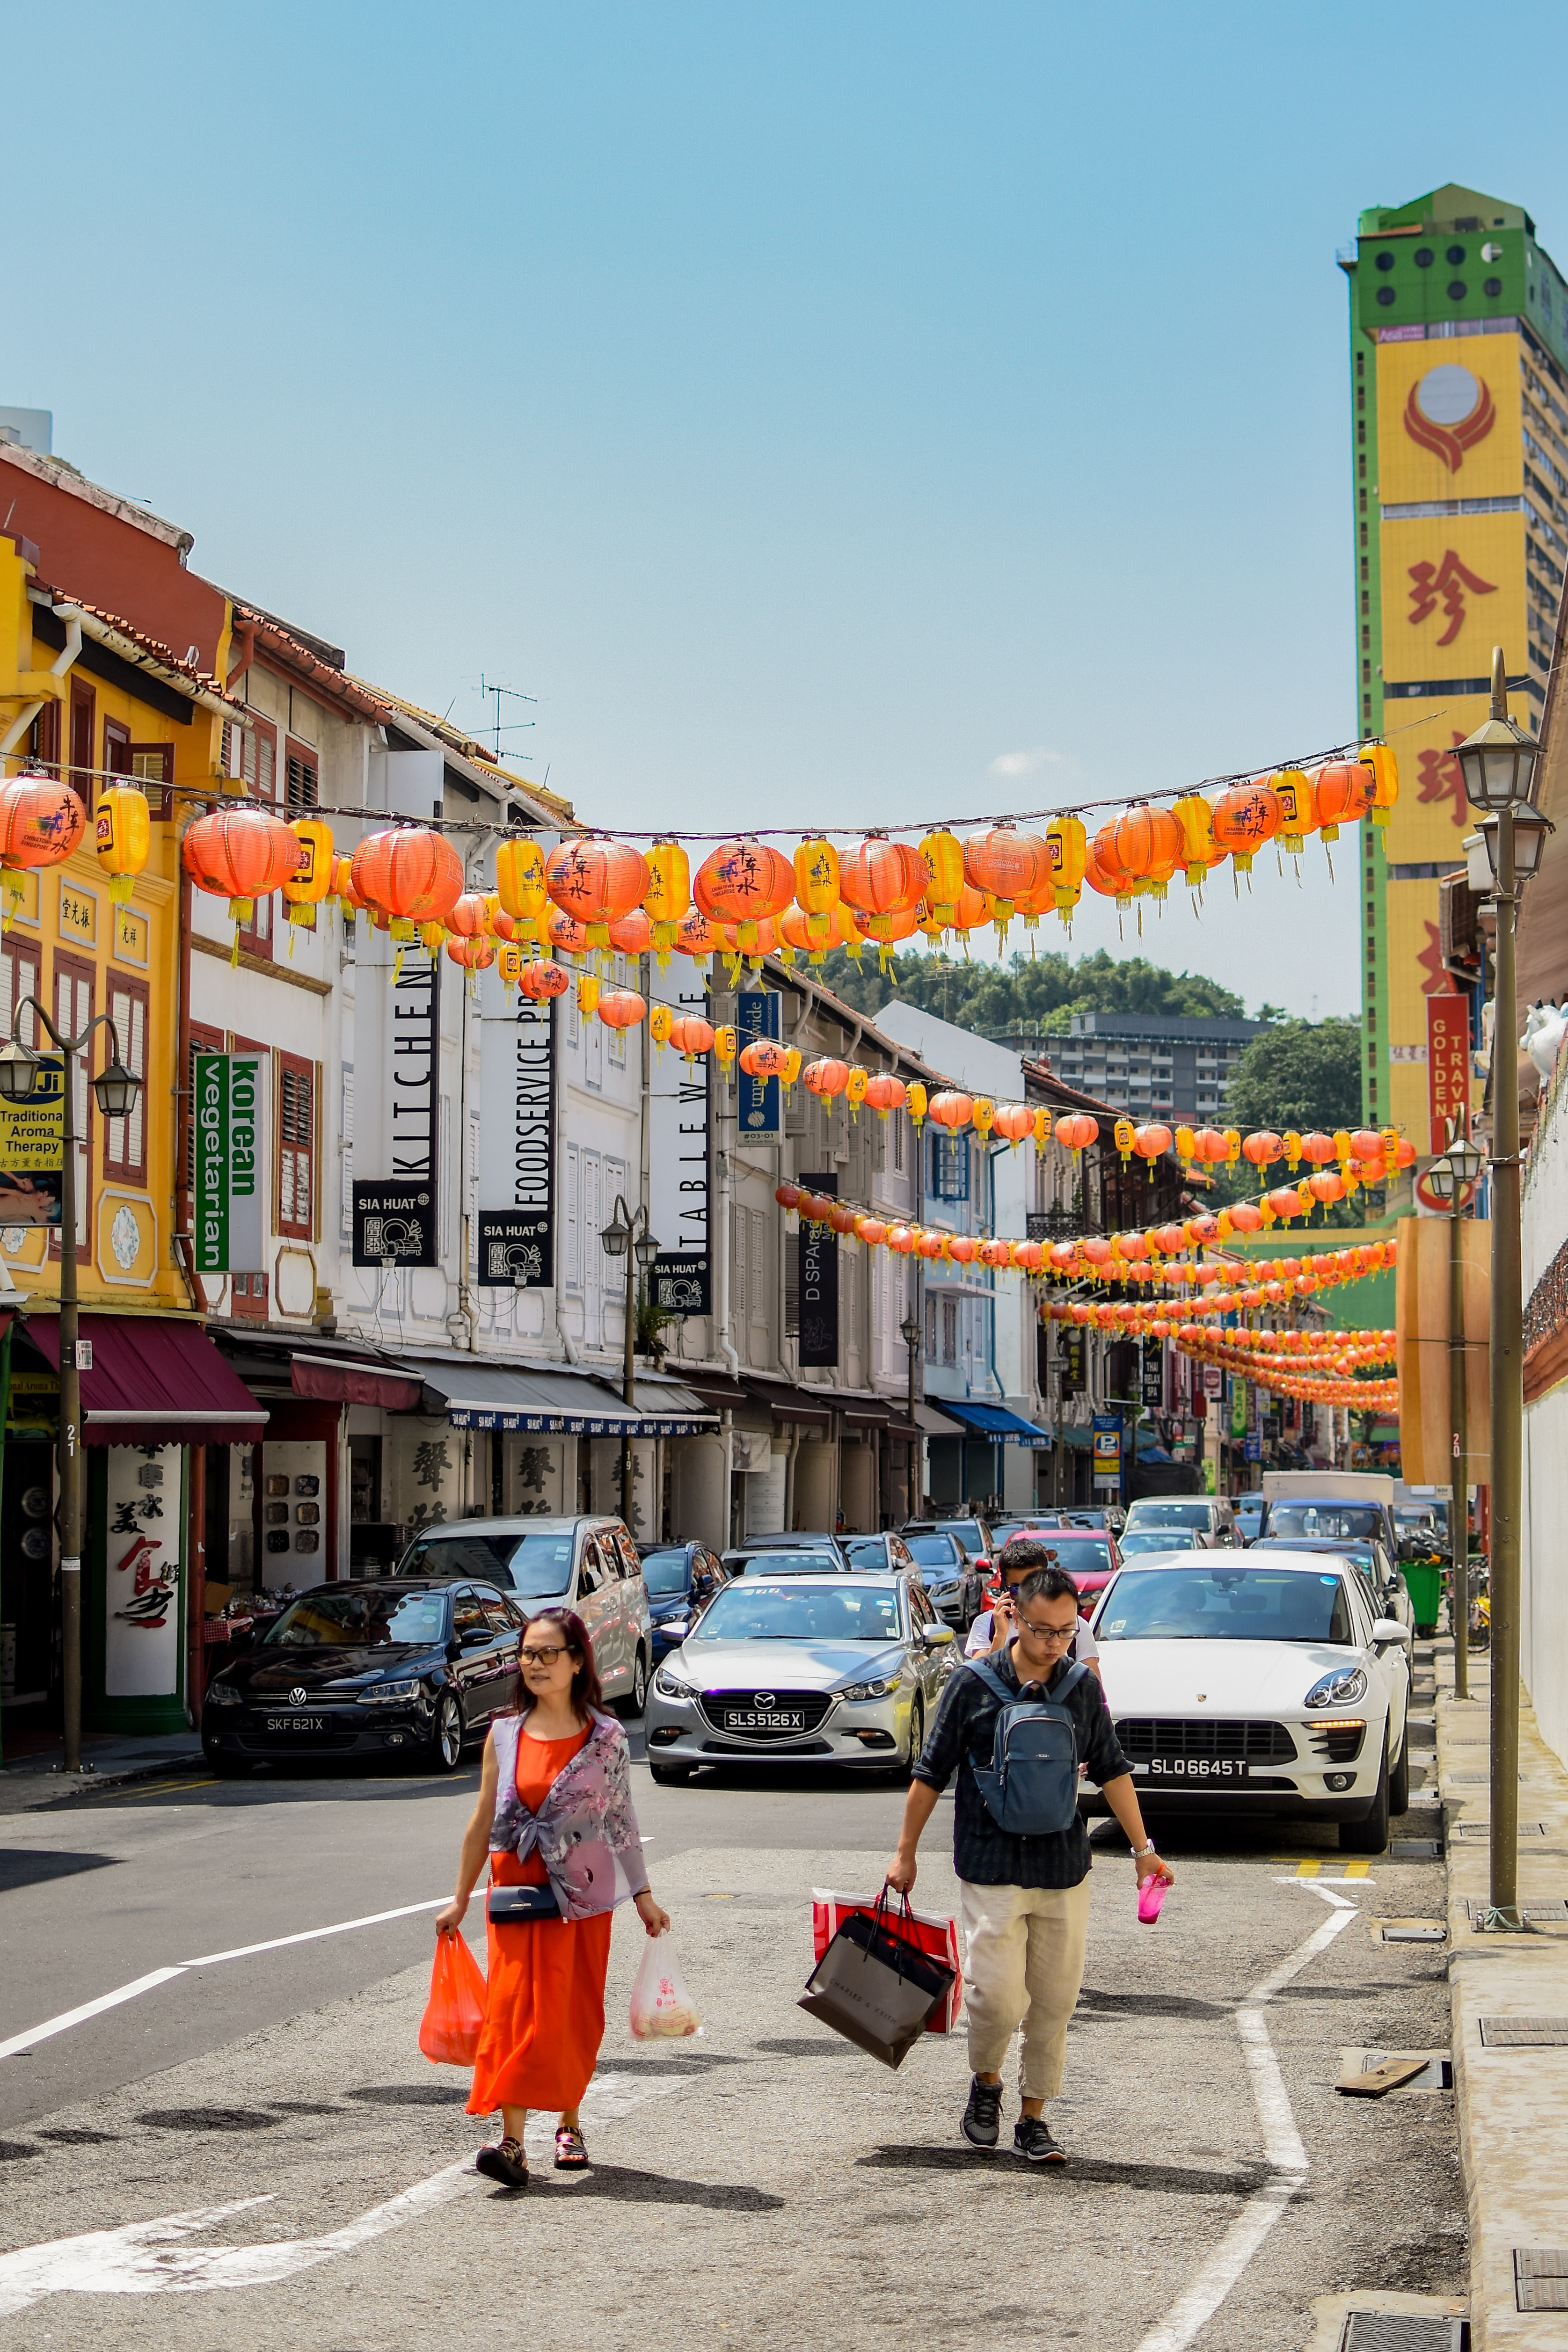person: (426, 1615, 673, 2190), (923, 1584, 1149, 2153)
